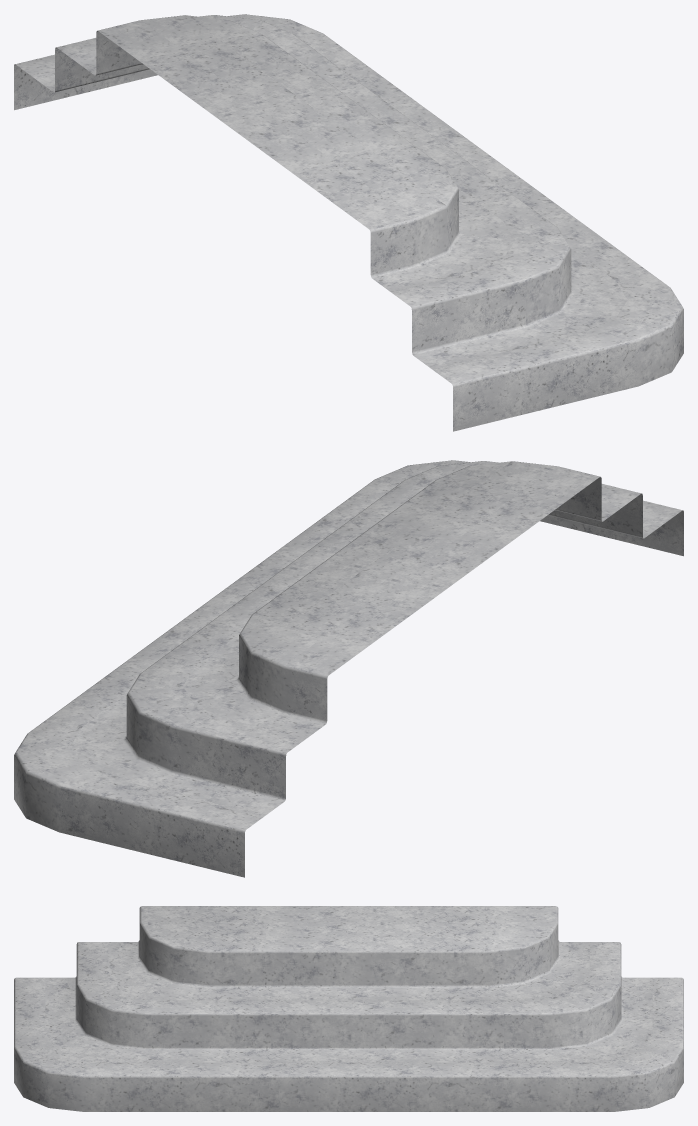
File: Stairs.fbx
3 views of the same model, one above another, from view 1: azimuth 30°, elevation 25°; view 2: azimuth 150°, elevation 25°; view 3: azimuth 270°, elevation 25° (orthographic). The views are drawn at different scales.
Parts seen in each view (by area): view 1: Stairs; view 2: Stairs; view 3: Stairs.
Boxes of the visible parts, x1,y1,x2,y2 form: Stairs: (14, 14, 683, 431); Stairs: (14, 460, 683, 877); Stairs: (14, 906, 683, 1111).
Bounding box in the file's own units: 288 × 51 × 100.
1 material, 1 textured.
